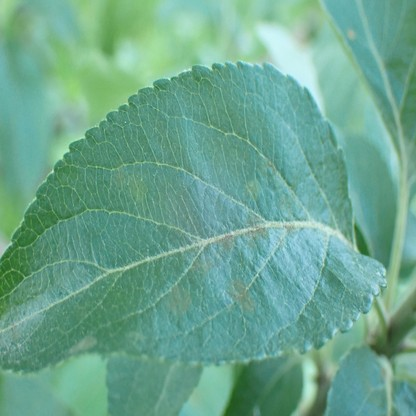powdery_mildew: (0, 292, 52, 350)
scab: (111, 168, 146, 203), (228, 280, 253, 317), (167, 285, 191, 315), (241, 224, 268, 247), (68, 333, 96, 353), (276, 224, 297, 247), (191, 260, 214, 276), (243, 180, 259, 201), (217, 234, 235, 251), (267, 159, 279, 176), (10, 324, 20, 341)
